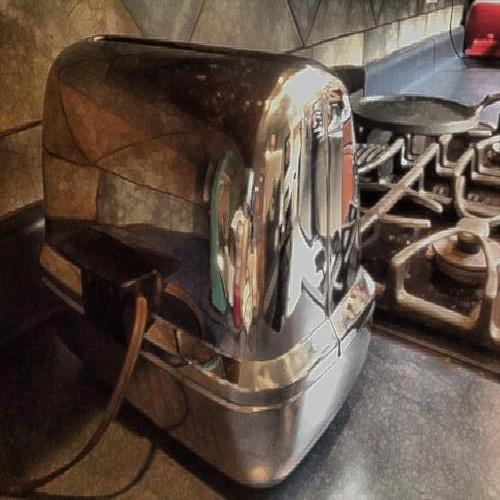toaster: (54, 24, 389, 465)
